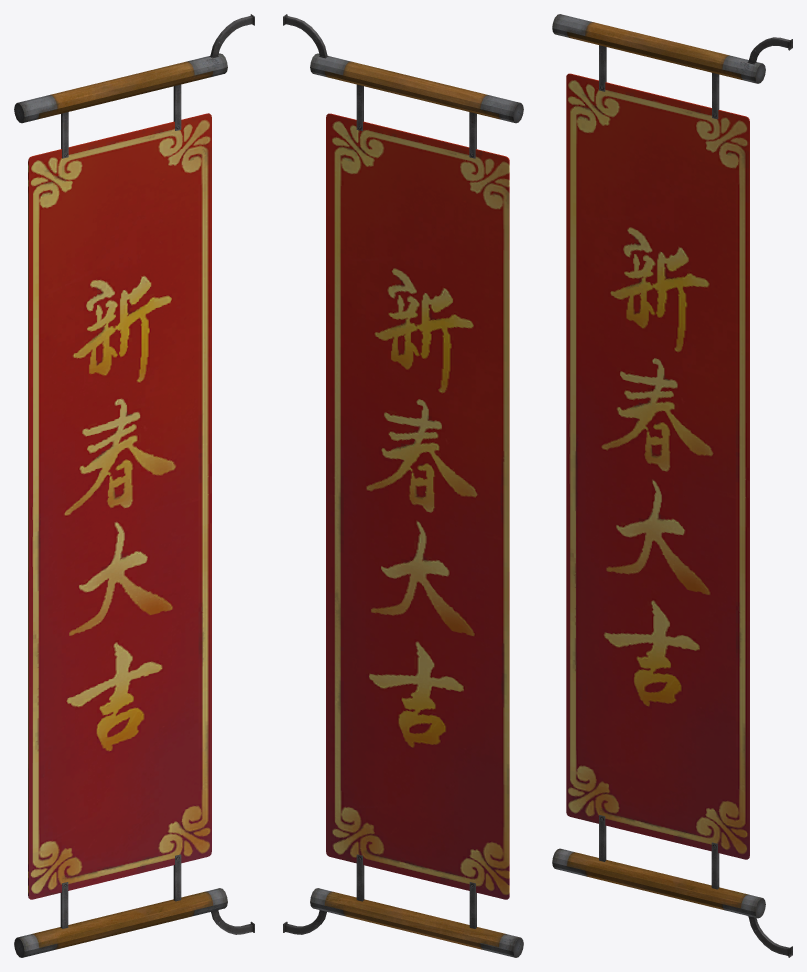
File: M_cp_gn_chunjie_02.fbx
3 views of the same model, side by side, from view 1: azimuth 30°, elevation 25°; view 2: azimuth 150°, elevation 25°; view 3: azimuth 330°, elevation 25° (orthographic).
Parts seen in each view (by area): view 1: M_cp_gn_chunjie_02.mo; view 2: M_cp_gn_chunjie_02.mo; view 3: M_cp_gn_chunjie_02.mo.
Boxes of the visible parts, x1,y1,x2,y2 form: M_cp_gn_chunjie_02.mo: [14, 14, 254, 957]; M_cp_gn_chunjie_02.mo: [283, 14, 523, 957]; M_cp_gn_chunjie_02.mo: [552, 14, 792, 957].
Size of the model in its own units: 58.12 by 218 by 4.53.
